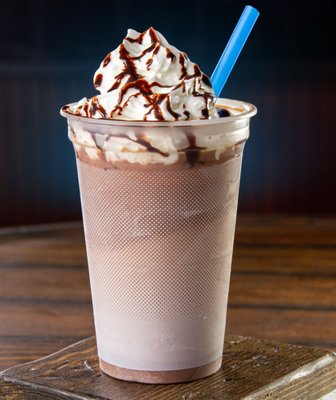soup: (63, 90, 256, 385)
